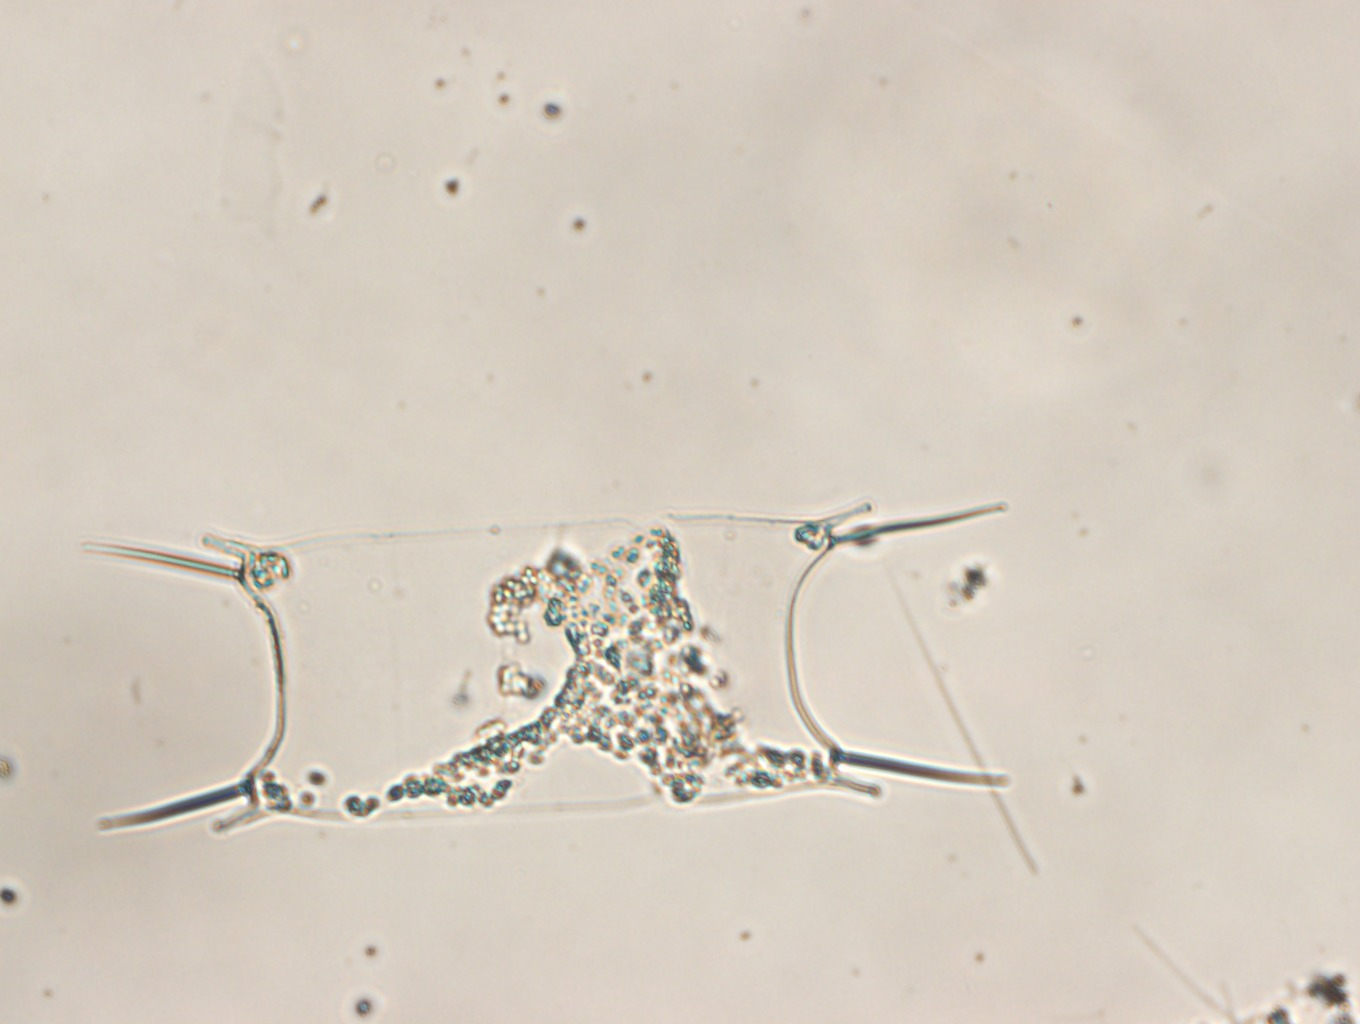biddulphia: (83, 494, 1015, 834)
